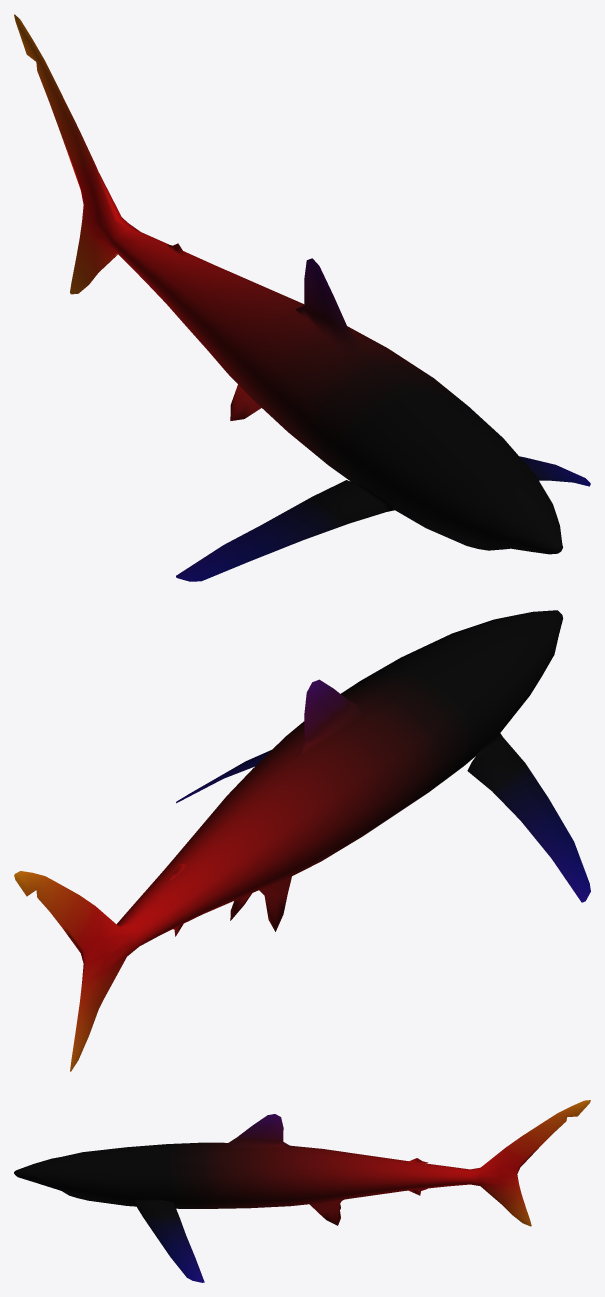
3 views of the same model, one above another, from view 1: azimuth 30°, elevation 25°; view 2: azimuth 150°, elevation 25°; view 3: azimuth 270°, elevation 25° (orthographic). The views are drawn at different scales.
Visible parts, largest first — view 1: blue shark base.002; view 2: blue shark base.002; view 3: blue shark base.002.
Part boxes in pixels (box(x1,y1,x2,y2)): blue shark base.002: box(14, 14, 590, 581); blue shark base.002: box(14, 610, 590, 1071); blue shark base.002: box(14, 1100, 590, 1282).
Size of the model in its own units: 1.13 by 0.6469 by 2.6.
